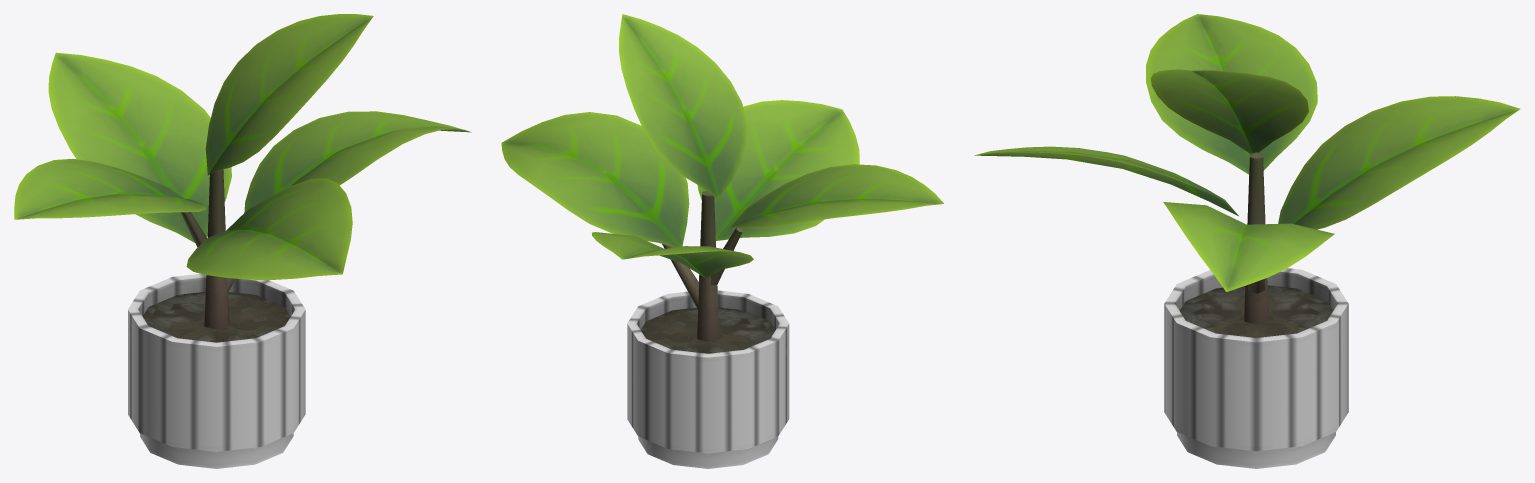
Rendered from Pfb_Flowerpot__2.fbx.
3 renders of one model, left to right at view 1: azimuth 30°, elevation 25°; view 2: azimuth 150°, elevation 25°; view 3: azimuth 270°, elevation 25°, orthographic. The views are drawn at different scales.
Visible parts, largest first — view 1: MAT_Flowerpot; view 2: MAT_Flowerpot; view 3: MAT_Flowerpot.
Part boxes in pixels (bbox=[...]): MAT_Flowerpot: bbox=[14, 14, 471, 468]; MAT_Flowerpot: bbox=[501, 14, 943, 468]; MAT_Flowerpot: bbox=[974, 14, 1520, 468].
Bounding box in the file's own units: 1.36 × 1.13 × 1.31.
Materials: 1 (1 with a texture image).
